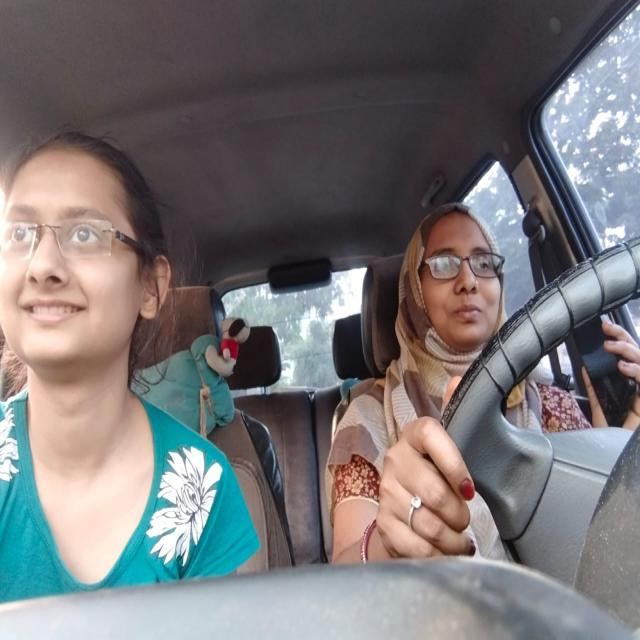mobile: (557, 275, 640, 439)
person: (0, 107, 174, 409), (394, 186, 519, 366)
